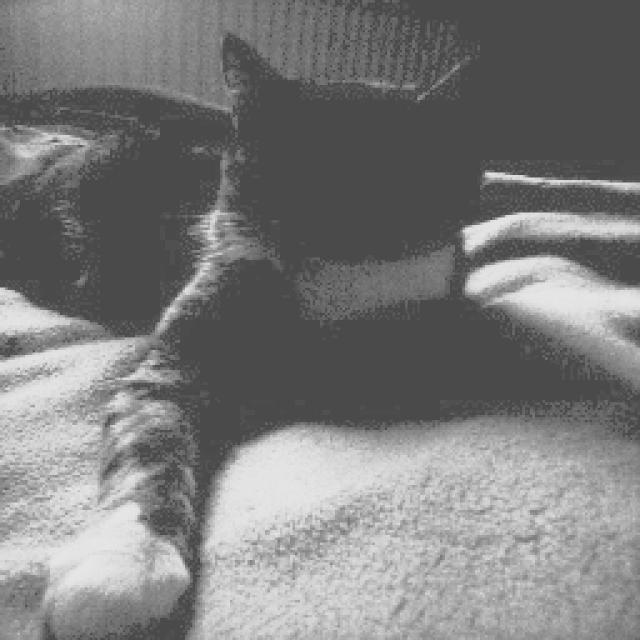cat: (0, 22, 510, 638)
